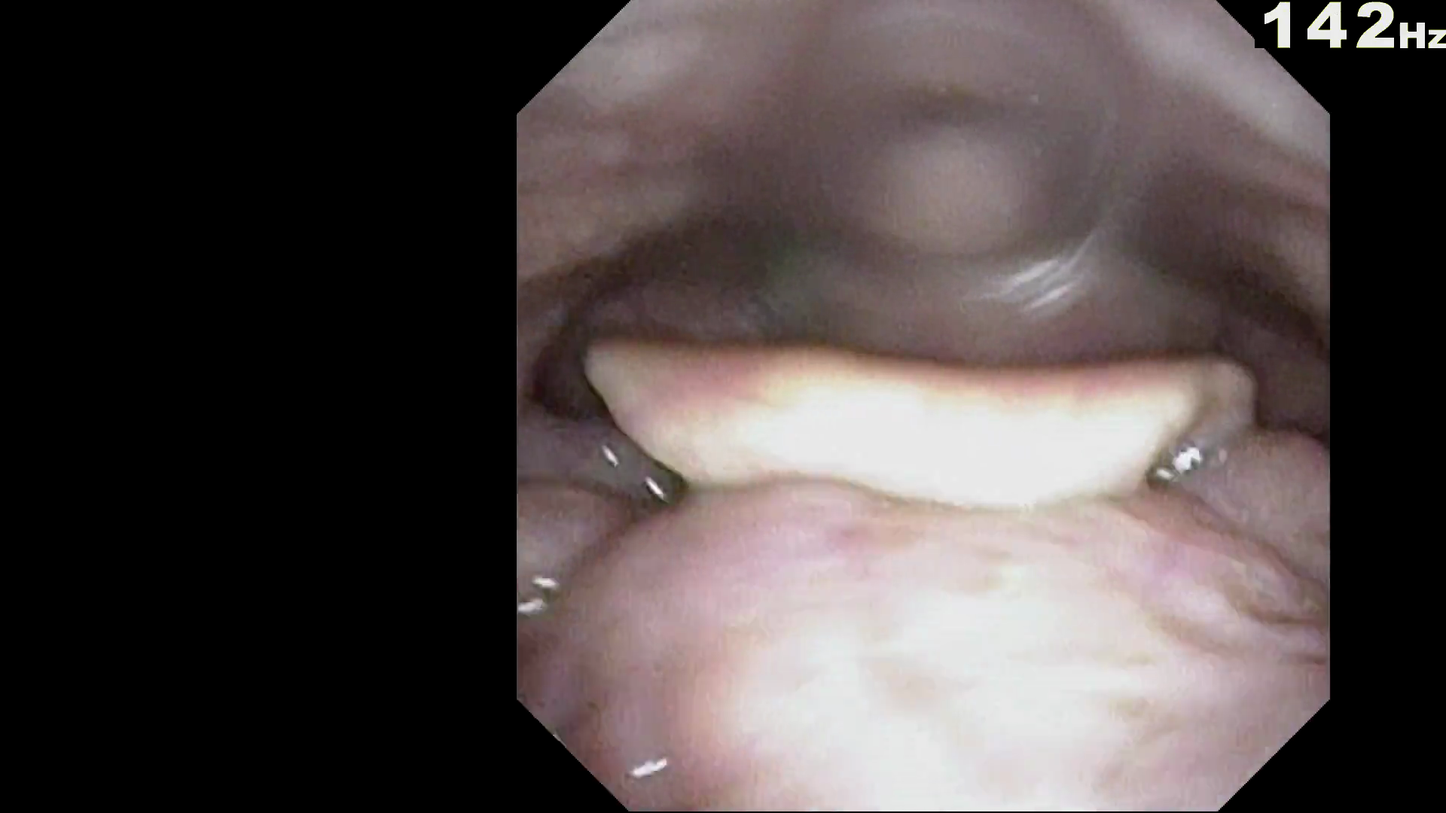epiglottis: (620, 333, 1235, 558)
